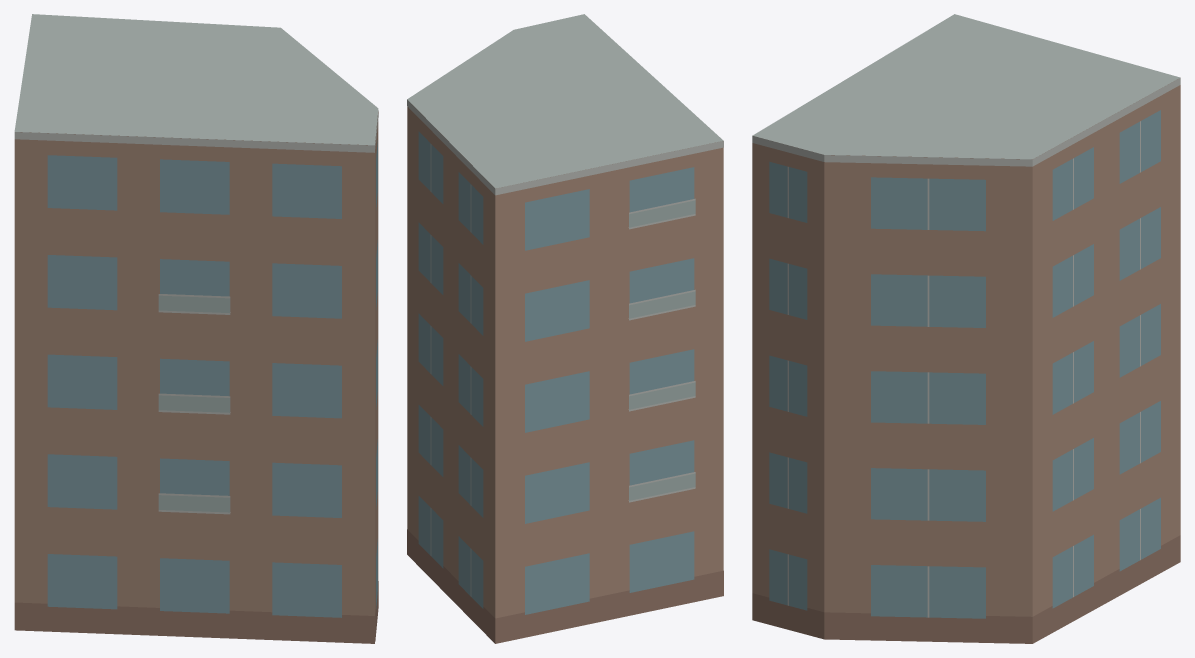
The model's file is survey-upis-33026493.glb.
3 views of the same model, side by side, from view 1: azimuth 30°, elevation 25°; view 2: azimuth 150°, elevation 25°; view 3: azimuth 270°, elevation 25° (orthographic). The views are drawn at different scales.
Visible parts, largest first — view 1: survey-upis-33026493.tmp; view 2: survey-upis-33026493.tmp; view 3: survey-upis-33026493.tmp.
Part boxes in pixels (x1,y1,x2,y2): survey-upis-33026493.tmp: (14,14,378,643); survey-upis-33026493.tmp: (407,14,723,643); survey-upis-33026493.tmp: (752,14,1180,643).
Bounding box in the file's own units: 10.5 × 16.3 × 13.07.
